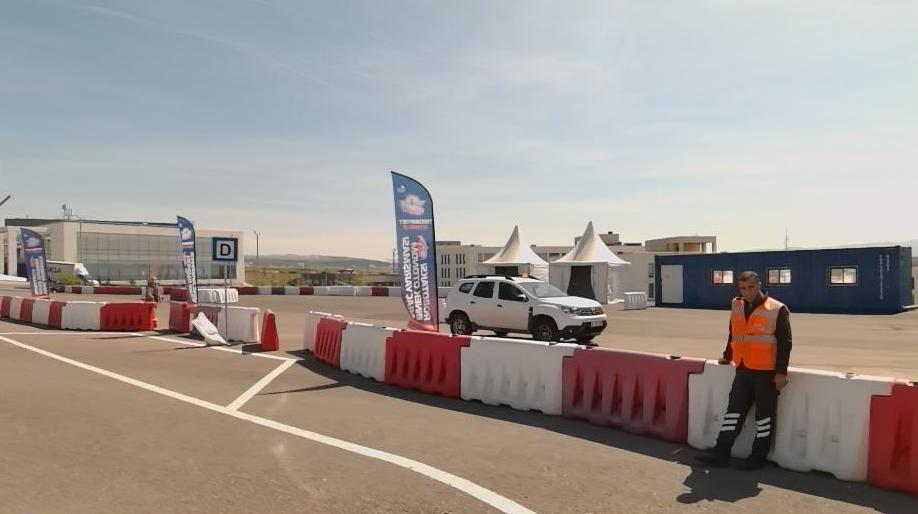nesne: (1, 332, 535, 512), (1, 334, 535, 512), (0, 328, 296, 417), (2, 331, 297, 409), (696, 268, 796, 469), (773, 369, 892, 481), (563, 346, 705, 439), (443, 274, 608, 341), (460, 336, 575, 415), (386, 328, 468, 396), (868, 380, 917, 493), (688, 359, 731, 447), (340, 320, 393, 383), (313, 315, 347, 365), (100, 302, 157, 330), (218, 307, 256, 342), (303, 312, 339, 348), (193, 312, 227, 344), (61, 301, 99, 328), (258, 310, 278, 350), (167, 301, 189, 331), (211, 237, 237, 261), (315, 285, 372, 295), (47, 302, 65, 328), (94, 285, 143, 294), (32, 299, 48, 324), (8, 297, 22, 320), (218, 288, 239, 303), (168, 287, 190, 300), (20, 299, 32, 322), (197, 288, 216, 302), (372, 285, 389, 296), (282, 287, 299, 297), (239, 286, 257, 295), (259, 286, 272, 295), (300, 287, 314, 295), (271, 286, 282, 295), (81, 286, 93, 294), (70, 285, 79, 292)
